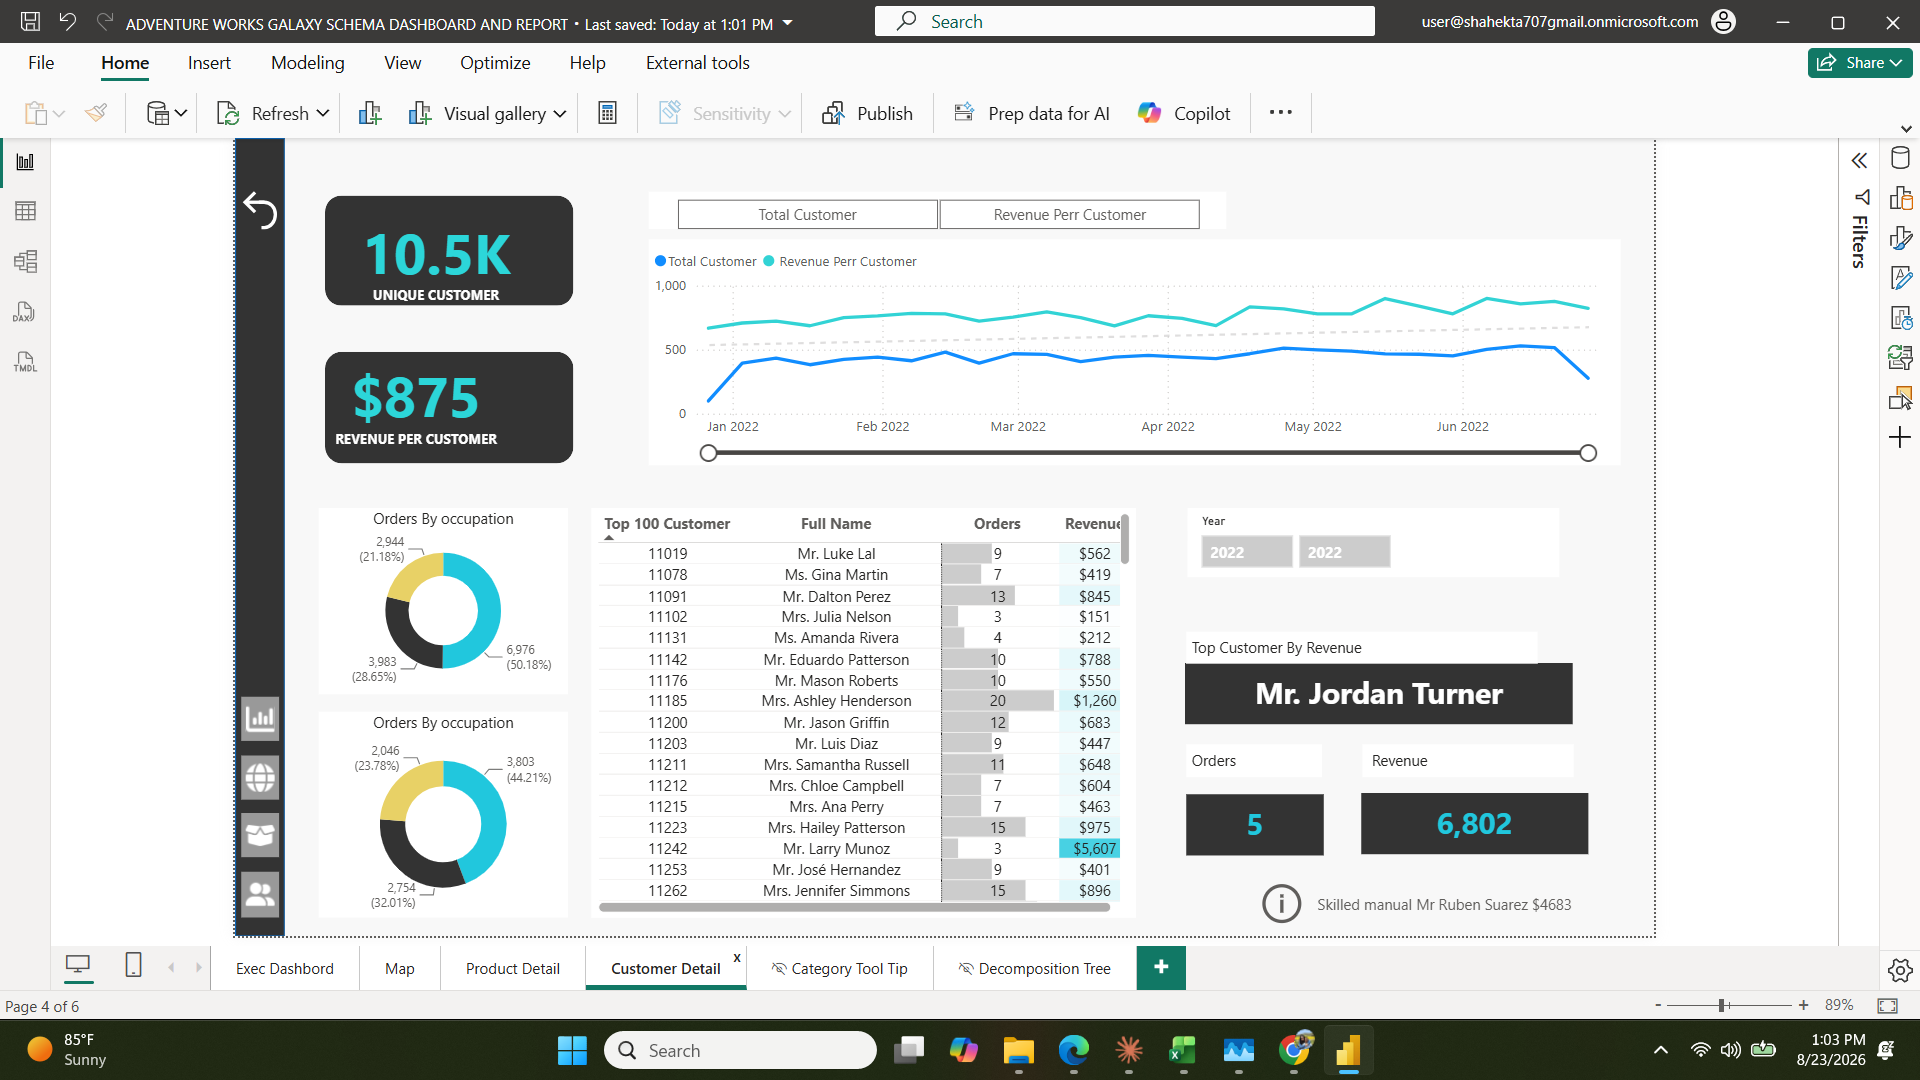

What the dashboard file says about the page in this screenshot:
{"tool":"powerbi","page":{"name":"Customer Detail","canvas":[1280,720],"ordinal":3},"visuals":[{"type":"shape","title":"page background left","box":[0,0,45,720],"z":0},{"type":"card","fields":{"Values":["Measure Table.Total Customer"]},"box":[75.4,26.8,212.1,164.5],"z":0,"group":"g3"},{"type":"shape","box":[80.6,51.9,224.1,99.5],"z":0,"group":"g2"},{"type":"lineChart","fields":{"Category":["Calendar Lookup.Date Hierarchy.Start of Year","Calendar Lookup.Date Hierarchy.Start of Month","Calendar Lookup.Date Hierarchy.Start of Week","Calendar Lookup.Date Hierarchy.Date"],"Y":["Measure Table.TOTAL CUSTOMER","Measure Table.Average Revenue Per Customer"]},"box":[373,91,876.3,203.5],"z":1000},{"type":"card","fields":{"Values":["Measure Table.Average Revenue Per Customer"]},"box":[57.1,122.7,212.1,231.3],"z":1000,"group":"g3"},{"type":"shape","box":[80.6,193.3,224.1,100.7],"z":1000,"group":"g2"},{"type":"actionButton","box":[5.7,503.5,34.1,39.8],"z":1000,"group":"g4"},{"type":"group","id":"g1","title":"KPI","box":[57.1,26.8,248.1,326.6],"z":2000},{"type":"group","id":"g2","title":"KPI BACKGROUND","box":[80.6,51.9,224.1,242.1],"z":2000,"group":"g1"},{"type":"actionButton","box":[5.7,608.7,34.1,39.8],"z":2000,"group":"g4"},{"type":"group","id":"g3","title":"KPI CARD","box":[57.1,26.8,230.4,327.1],"z":3000,"group":"g1"},{"type":"donutChart","title":"Orders By occupation","fields":{"Category":["Customer Lookup.Occupation"],"Y":["Measure Table.TOTAL ORDERS"]},"box":[75,517.6,224.9,185.6],"z":3000},{"type":"actionButton","box":[5.7,556.1,34.1,39.8],"z":3000,"group":"g4"},{"type":"tableEx","fields":{"Values":["Customer Lookup.CustomerKey","Customer Lookup.Full Name","Measure Table.Total Orders","Measure Table.TOTAL REVENUE","select"]},"box":[321.3,333.7,490.8,369.4],"z":4000},{"type":"actionButton","box":[5.7,661.4,34.1,41.2],"z":4000,"group":"g4"},{"type":"card","fields":{"Values":["Measure Table.FULL NAME (CUSTOMER DETAIL)"]},"box":[856.7,473,349.9,55.5],"z":5000},{"type":"card","fields":{"Values":["Measure Table.Total Order (Customer detail)"]},"box":[857.8,591.3,123.7,55.5],"z":6000},{"type":"card","fields":{"Values":["Measure Table.TOTAL REVENUE(CUSTOMER DETAIL)"]},"box":[1015.5,590.8,204.8,55.5],"z":7000},{"type":"textbox","box":[857.8,444.8,317.2,28.4],"z":8000},{"type":"textbox","box":[857.8,547.2,122.3,29.9],"z":10000},{"type":"textbox","box":[1017.1,547.2,190.6,29.9],"z":11000},{"type":"slicer","fields":{"Values":["Calendar Lookup.Year"]},"box":[858.5,333.7,335.5,62.5],"z":12000},{"type":"actionButton","box":[920.9,667.5,288.6,46.2],"z":13000},{"type":"actionButton","box":[0,38.4,45.5,54],"z":14000},{"type":"group","id":"g4","title":"Page Navigation Button","box":[5.7,503.5,34.1,199.1],"z":15000},{"type":"slicer","fields":{"Values":["Customer Field Parameter.Customer Field Parameter"]},"box":[373,48.2,521.1,33.9],"z":16000},{"type":"donutChart","title":"Orders By occupation","fields":{"Category":["Product Categories Lookup.CategoryName"],"Y":["Measure Table.TOTAL ORDERS"]},"box":[75,333.7,224.9,167.8],"z":16001}]}

Visuals, with their boxes on the page's 1280x720 design canvas (x1, y1, x2, y2). These are canvas units, not pixel positions in the 1920x1080 screenshot, which may show the page scaled, cropped or inside an application window:
"page background left" shape: bbox=[0, 0, 45, 720]
card - Measure Table.Total Customer: bbox=[75, 27, 288, 191]
shape: bbox=[81, 52, 305, 151]
lineChart - Calendar Lookup.Date Hierarchy.Start of Year x Calendar Lookup.Date Hierarchy.Start of Month: bbox=[373, 91, 1249, 294]
card - Measure Table.Average Revenue Per Customer: bbox=[57, 123, 269, 354]
shape: bbox=[81, 193, 305, 294]
actionButton: bbox=[6, 504, 40, 543]
"KPI" group: bbox=[57, 27, 305, 353]
"KPI BACKGROUND" group: bbox=[81, 52, 305, 294]
actionButton: bbox=[6, 609, 40, 648]
"KPI CARD" group: bbox=[57, 27, 288, 354]
"Orders By occupation" donutChart: bbox=[75, 518, 300, 703]
actionButton: bbox=[6, 556, 40, 596]
tableEx - Customer Lookup.CustomerKey x Customer Lookup.Full Name: bbox=[321, 334, 812, 703]
actionButton: bbox=[6, 661, 40, 703]
card - Measure Table.FULL NAME (CUSTOMER DETAIL): bbox=[857, 473, 1207, 528]
card - Measure Table.Total Order (Customer detail): bbox=[858, 591, 982, 647]
card - Measure Table.TOTAL REVENUE(CUSTOMER DETAIL): bbox=[1016, 591, 1220, 646]
textbox: bbox=[858, 445, 1175, 473]
textbox: bbox=[858, 547, 980, 577]
textbox: bbox=[1017, 547, 1208, 577]
slicer - Calendar Lookup.Year: bbox=[858, 334, 1194, 396]
actionButton: bbox=[921, 668, 1210, 714]
actionButton: bbox=[0, 38, 46, 92]
"Page Navigation Button" group: bbox=[6, 504, 40, 703]
slicer - Customer Field Parameter.Customer Field Parameter: bbox=[373, 48, 894, 82]
"Orders By occupation" donutChart: bbox=[75, 334, 300, 502]
